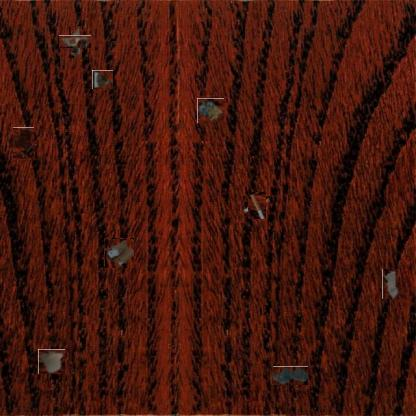dirty: (104, 238, 134, 268), (197, 97, 224, 124), (38, 349, 65, 374), (382, 269, 399, 299), (64, 31, 87, 53), (246, 194, 269, 216), (92, 70, 113, 89)
liquid: (10, 130, 37, 158), (272, 366, 308, 385)
